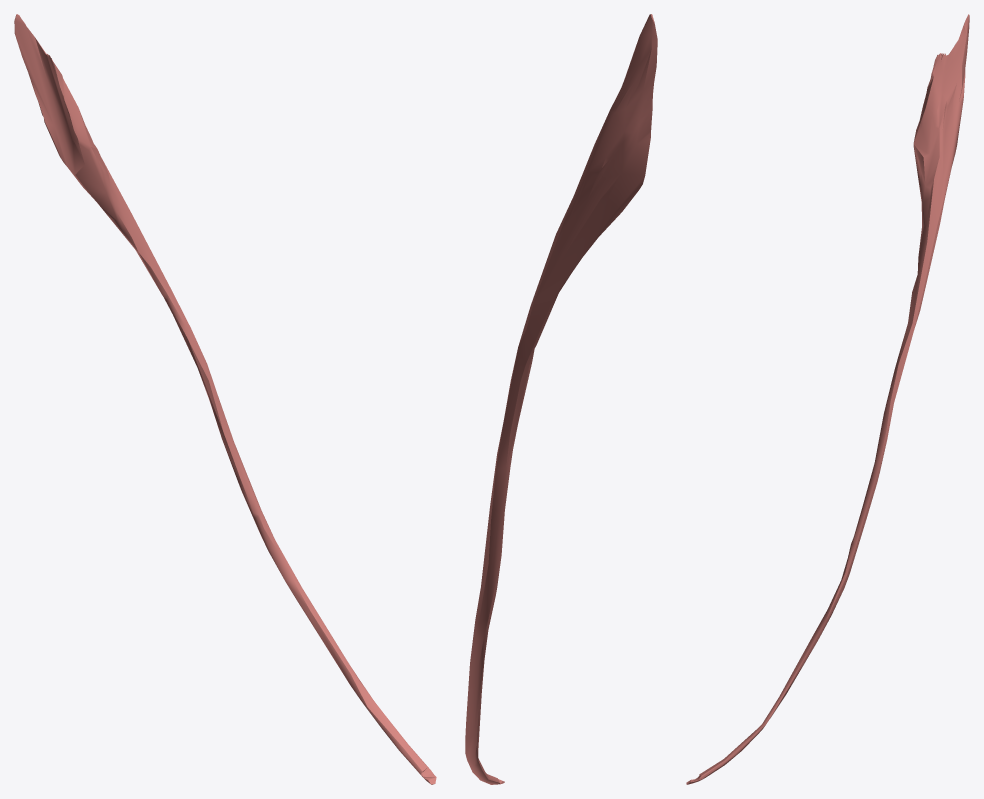
The model's file is fma38526_fj1493m.glb.
3 views of the same model, side by side, from view 1: azimuth 30°, elevation 25°; view 2: azimuth 150°, elevation 25°; view 3: azimuth 270°, elevation 25° (orthographic). The views are drawn at different scales.
Parts seen in each view (by area): view 1: FMA38526_FJ1493M; view 2: FMA38526_FJ1493M; view 3: FMA38526_FJ1493M.
Boxes of the visible parts, <box> form: FMA38526_FJ1493M: <box>14,14,436,784</box>; FMA38526_FJ1493M: <box>465,14,657,784</box>; FMA38526_FJ1493M: <box>686,14,969,784</box>.
Size of the model in its own units: 0.0781 by 0.1995 by 0.0783.
